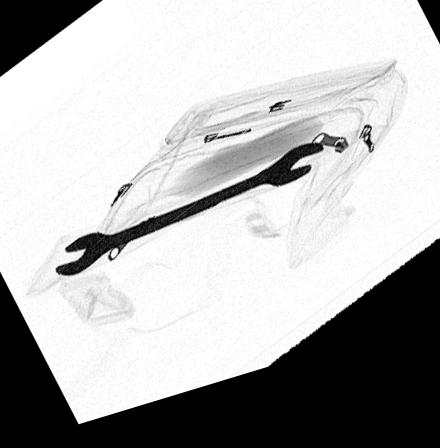Wrench: (54, 162, 323, 280)
